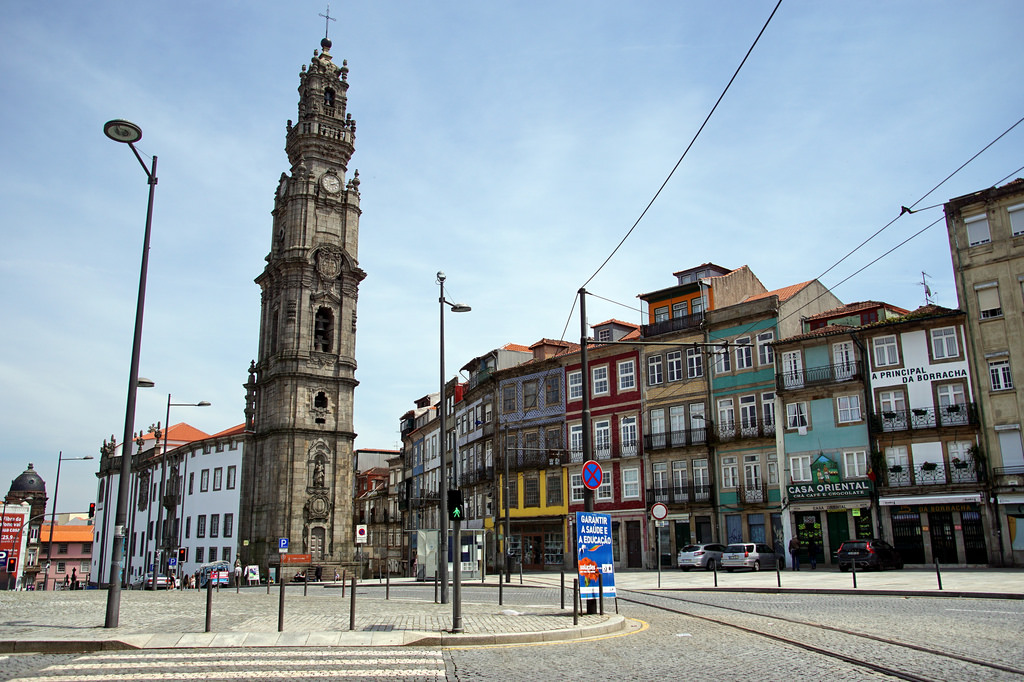clerigos: (244, 0, 369, 565)
